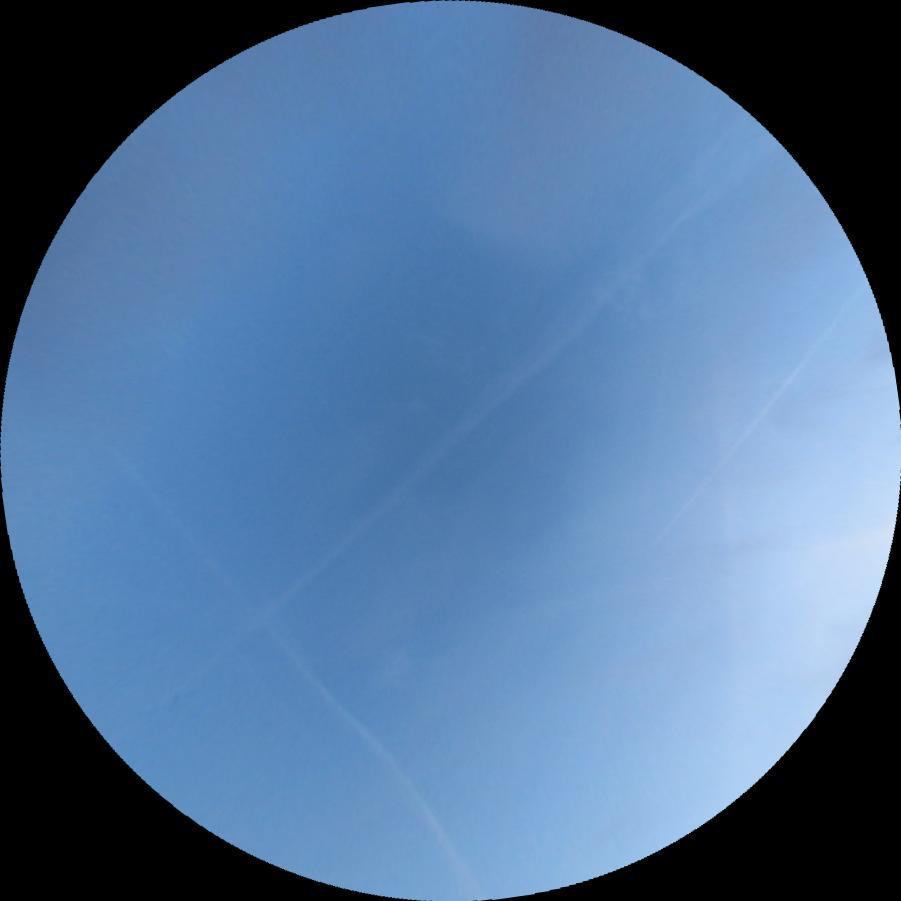contrail veryold: (145, 104, 788, 697), (86, 412, 490, 899)
contrail young: (647, 279, 870, 549)
